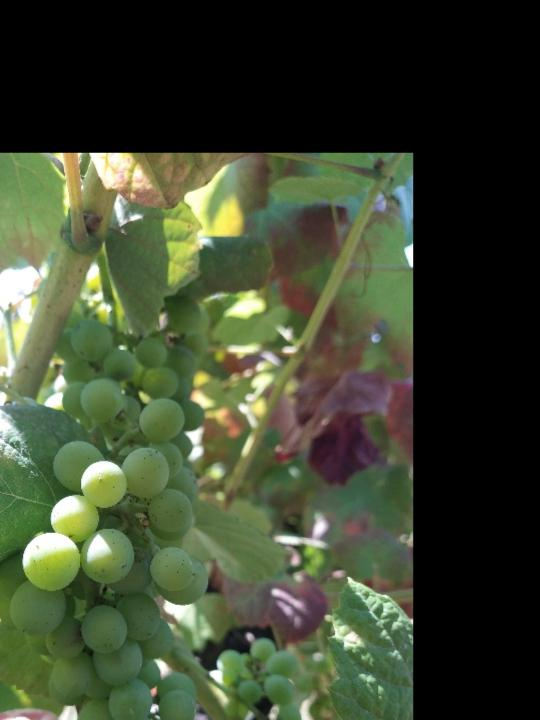grape: (9, 376, 202, 720)
